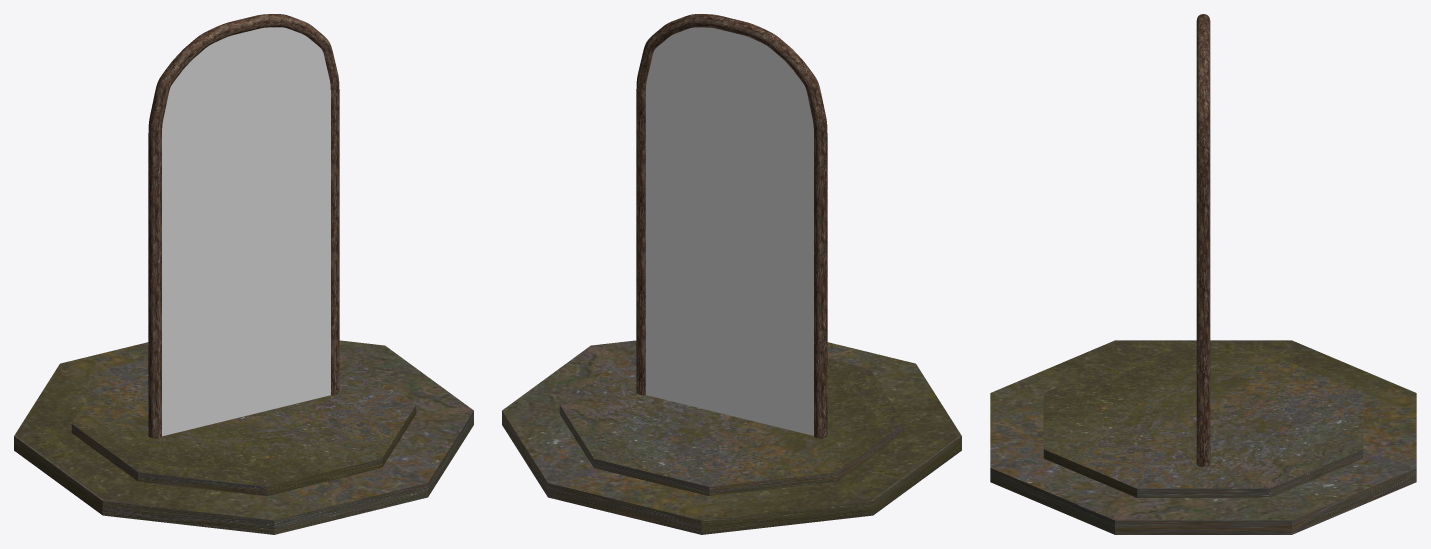
Rendered from Amazonie_Portail_Fin_Temple.fbx.
3 views of the same model, side by side, from view 1: azimuth 30°, elevation 25°; view 2: azimuth 150°, elevation 25°; view 3: azimuth 270°, elevation 25° (orthographic).
Visible parts, largest first — view 1: Cube, Cylinder.001, Plane; view 2: Cube, Cylinder.001, Plane; view 3: Cylinder.001, Plane.
Part boxes in pixels (bbox=[...]): Cube: bbox=[162, 27, 330, 436]; Cylinder.001: bbox=[14, 340, 473, 534]; Plane: bbox=[148, 14, 339, 438]; Cube: bbox=[646, 27, 813, 435]; Cylinder.001: bbox=[502, 340, 961, 534]; Plane: bbox=[636, 14, 827, 438]; Cylinder.001: bbox=[990, 340, 1416, 534]; Plane: bbox=[1196, 14, 1210, 466].
Size of the model in its own units: 418 by 451 by 418.
